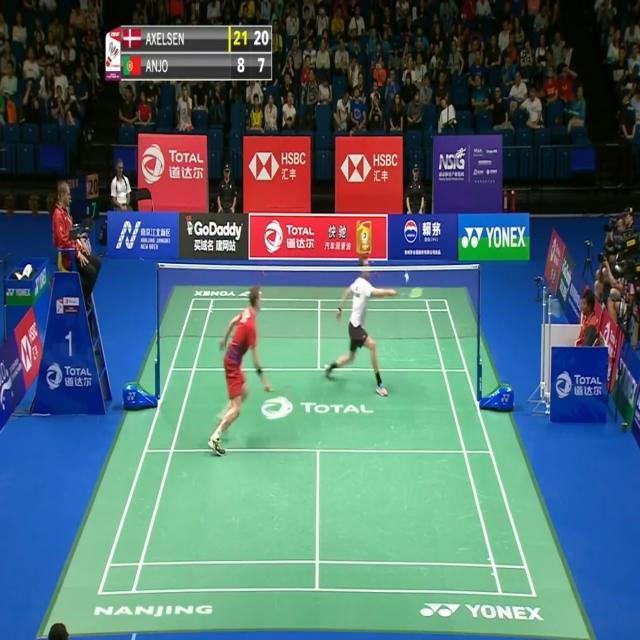Player1: (320, 250, 430, 399)
Player2: (202, 279, 296, 457)
